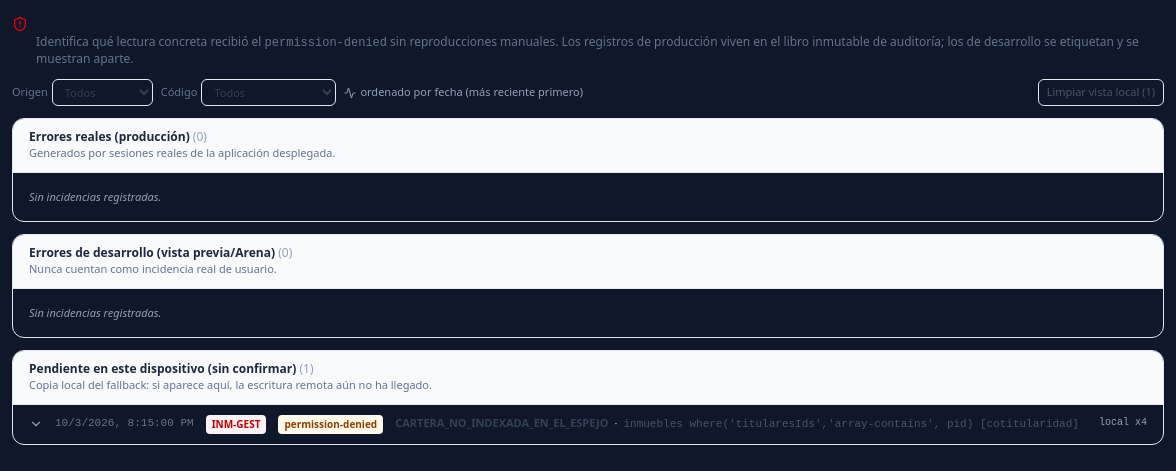
Test: panel de diagnóstico de lecturas · copia local › muestra las incidencias locales no confirmadas y las puede limpiar
Expected: the element with test id "diag-locales" shows "INM-GEST", [13,404,1163,444]
Expected: the element with test id "diag-locales" shows "local x4", [13,404,1163,444]
Click the button with test id "limpiar-local".
click(1101, 93)  # box [1038,79,1164,106]
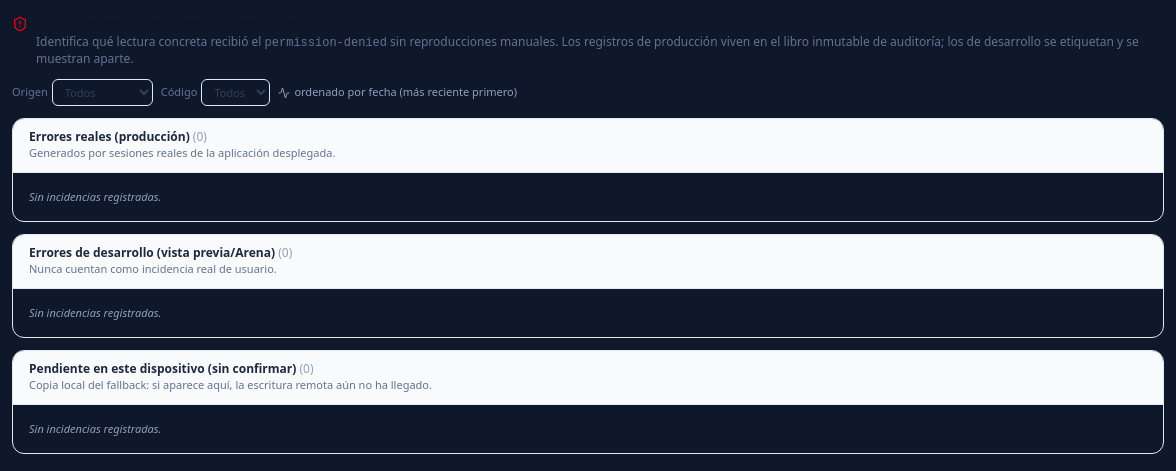
Expected: the element with test id "diag-locales" shows "Sin incidencias registradas", [29,420,161,436]
